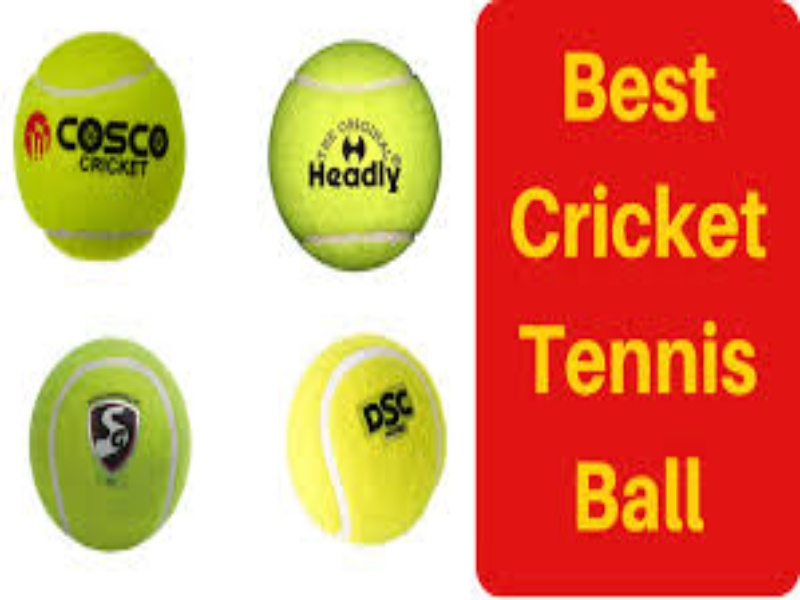tennis ball: (11, 20, 210, 267), (26, 329, 217, 558), (274, 42, 435, 264), (288, 331, 453, 544)
